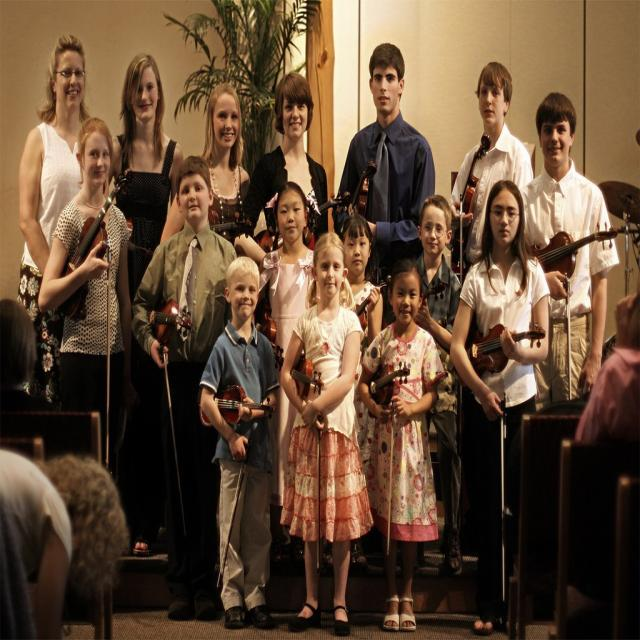violin: (59, 171, 127, 329), (529, 214, 623, 281), (462, 317, 545, 380), (456, 132, 497, 247), (198, 378, 277, 432), (343, 151, 380, 218), (366, 361, 413, 412), (142, 296, 197, 339), (284, 354, 327, 394), (260, 225, 316, 255), (208, 210, 257, 233)
